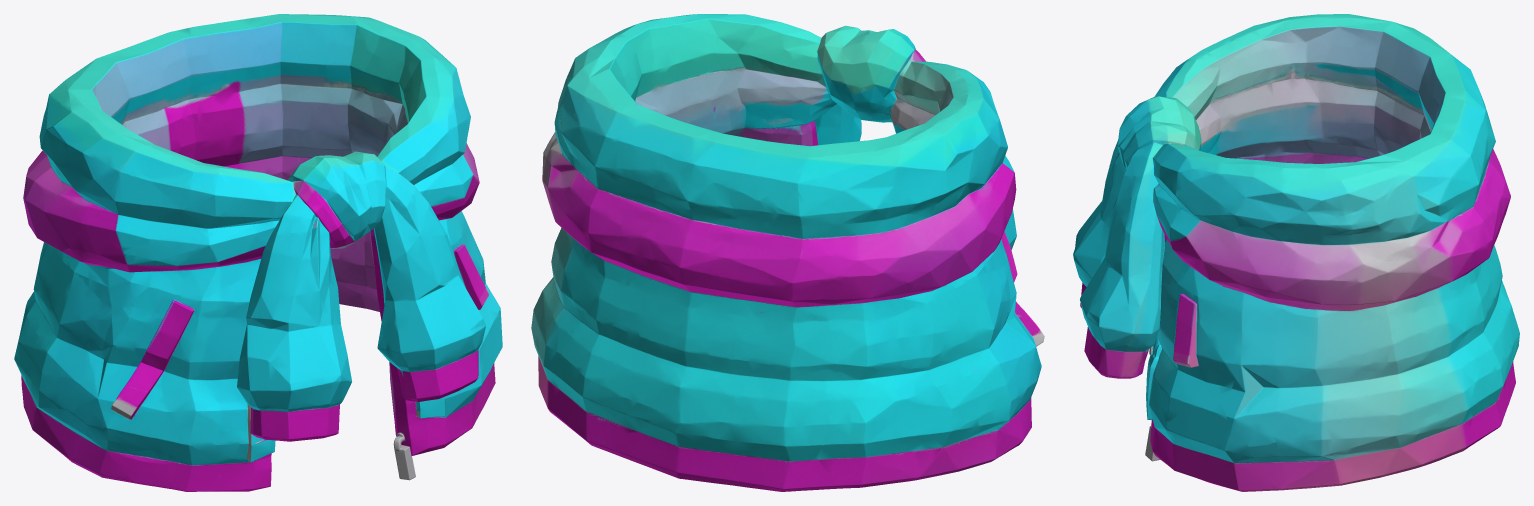
File: tied_windbreaker.glb
3 views of the same model, side by side, from view 1: azimuth 30°, elevation 25°; view 2: azimuth 150°, elevation 25°; view 3: azimuth 270°, elevation 25° (orthographic). The views are drawn at different scales.
Size of the model in its own units: 1.9 by 1.48 by 1.77.
1 material, 1 textured.
